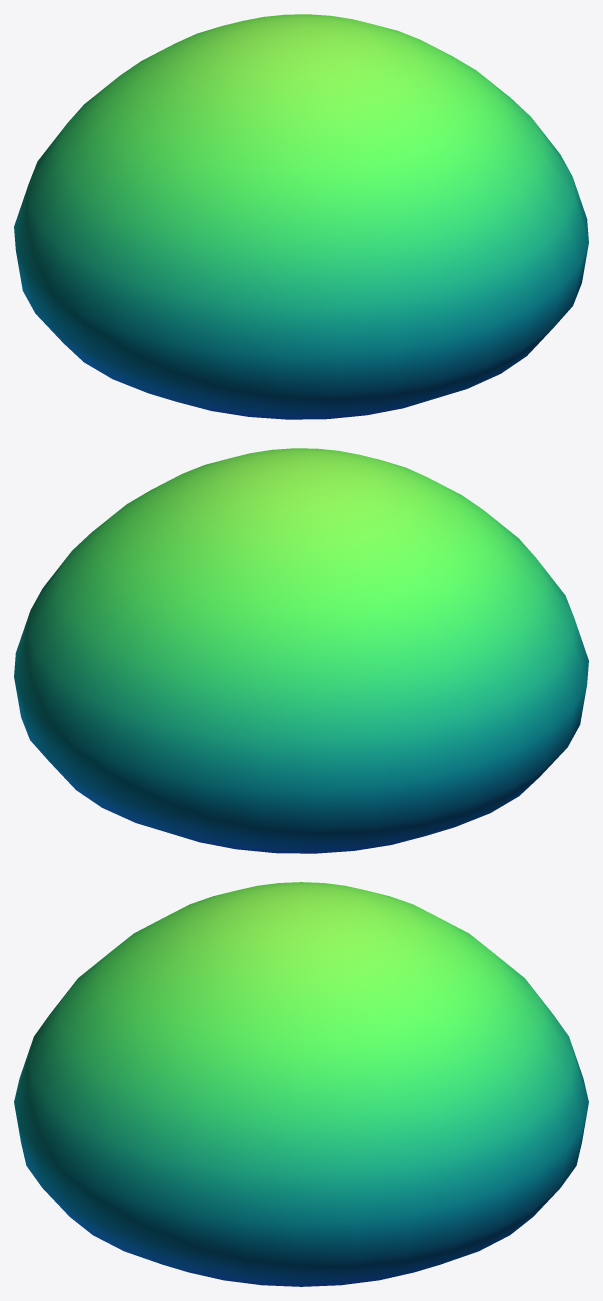
File: Jelly.FBX
3 renders of one model, top to bottom at view 1: azimuth 30°, elevation 25°; view 2: azimuth 150°, elevation 25°; view 3: azimuth 270°, elevation 25°, orthographic.
Parts seen in each view (by area): view 1: Jelly; view 2: Jelly; view 3: Jelly.
Part boxes in pixels (x1=…): Jelly: x1=14, y1=14, x2=588, y2=419; Jelly: x1=14, y1=448, x2=588, y2=853; Jelly: x1=14, y1=882, x2=588, y2=1286.
Bounding box in the file's own units: 91.56 × 51.35 × 91.56.
